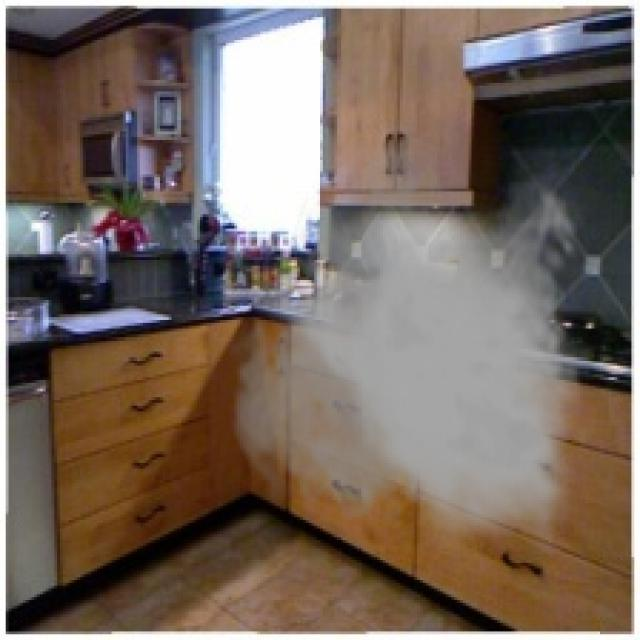smoke: (228, 143, 588, 554)
